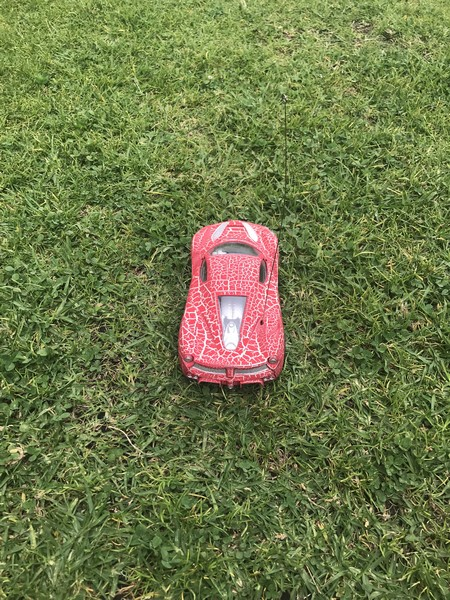RC: (175, 219, 290, 389)
